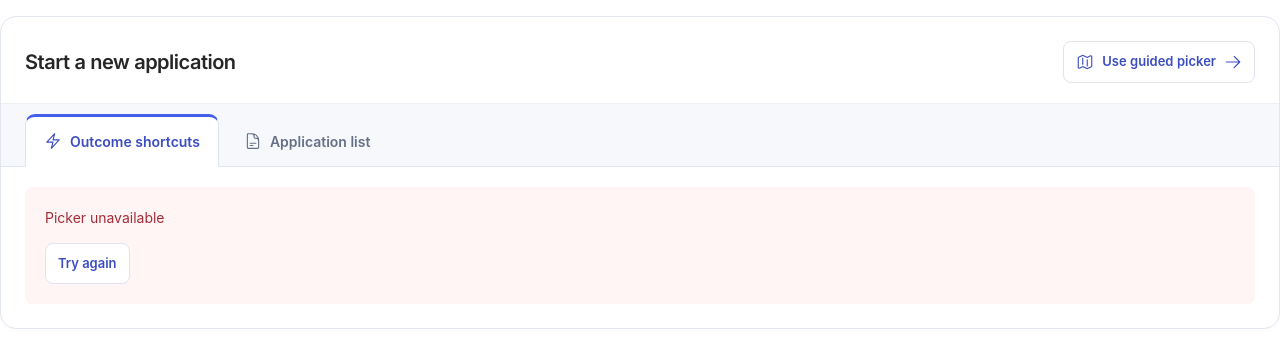
Test: application start tabs › can retry a failed load and return to the legacy list
The width and height of the screenshot is (1280, 346).
Expected: the text "Picker unavailable" is shown, [45, 208, 164, 226]
Click the button "Try again": click(87, 263) [45, 242, 130, 284]
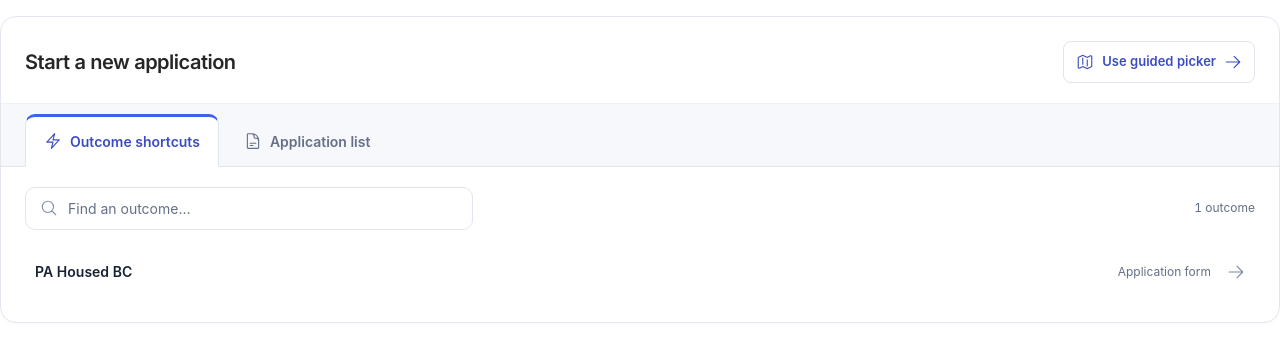
Result: the link "PA Housed BC Application form" is shown at [35, 262, 1245, 280]
Click the tab "Application list": click(307, 140) [225, 114, 389, 166]
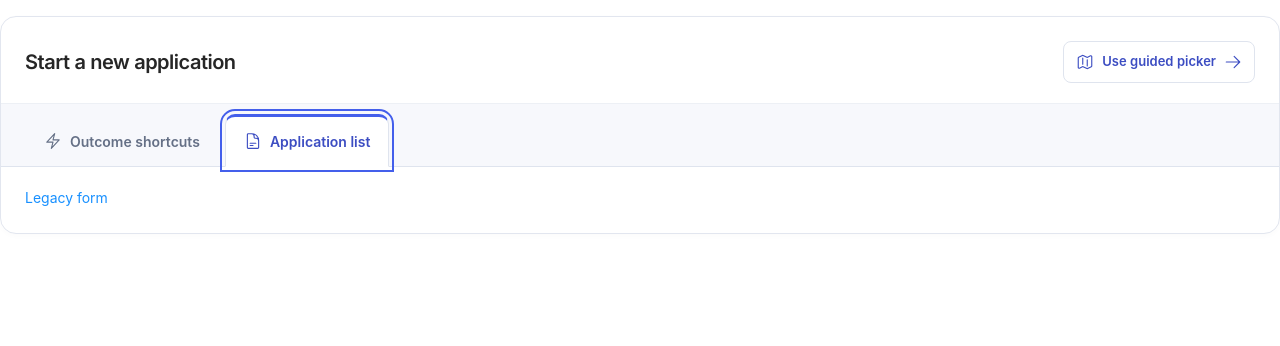
Result: the link "Legacy form" is shown at [25, 188, 108, 206]
